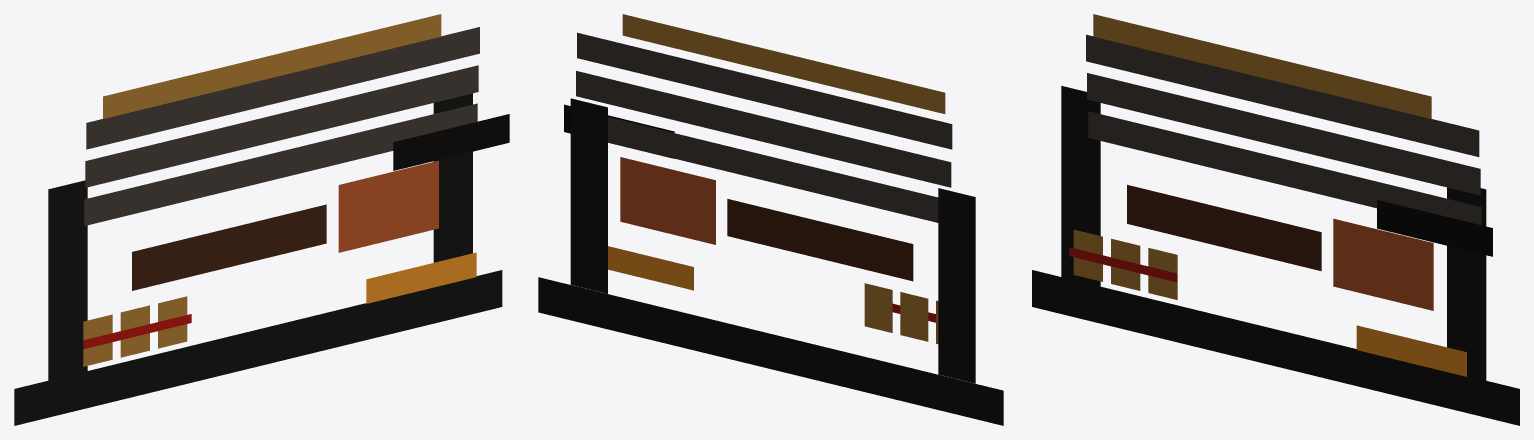
Rendered from V134WPP_002_SteamScattergunDisplayPolish_Staged.obj.
3 renders of one model, left to right at view 1: azimuth 30°, elevation 25°; view 2: azimuth 150°, elevation 25°; view 3: azimuth 330°, elevation 25°, orthographic. The views are drawn at different scales.
Parts seen in each view (by area): view 1: scattergun_broad_barrel_mass_read, scattergun_blackened_display_base, scattergun_blackened_display_yoke, scattergun_brass_top_rib, scattergun_walnut_pump_grip_read, scattergun_slug_canister_side_read, scattergun_soot_heat_wear_patches, scattergun_shell_rack_pickup_language, scattergun_amber_nameplate_display, scattergun_shell_rack_pressure_marks; view 2: scattergun_broad_barrel_mass_read, scattergun_blackened_display_base, scattergun_blackened_display_yoke, scattergun_brass_top_rib, scattergun_walnut_pump_grip_read, scattergun_slug_canister_side_read, scattergun_shell_rack_pickup_language, scattergun_amber_nameplate_display; view 3: scattergun_broad_barrel_mass_read, scattergun_blackened_display_base, scattergun_blackened_display_yoke, scattergun_brass_top_rib, scattergun_walnut_pump_grip_read, scattergun_slug_canister_side_read, scattergun_soot_heat_wear_patches, scattergun_shell_rack_pickup_language, scattergun_amber_nameplate_display, scattergun_shell_rack_pressure_marks.
Part boxes in pixels (bbox=[...]): scattergun_broad_barrel_mass_read: bbox=[84, 27, 479, 225]; scattergun_blackened_display_base: bbox=[14, 270, 502, 425]; scattergun_blackened_display_yoke: bbox=[48, 93, 472, 384]; scattergun_brass_top_rib: bbox=[103, 14, 441, 118]; scattergun_walnut_pump_grip_read: bbox=[132, 204, 326, 290]; scattergun_slug_canister_side_read: bbox=[338, 160, 438, 252]; scattergun_soot_heat_wear_patches: bbox=[393, 114, 509, 170]; scattergun_shell_rack_pickup_language: bbox=[83, 296, 187, 366]; scattergun_amber_nameplate_display: bbox=[366, 252, 476, 303]; scattergun_shell_rack_pressure_marks: bbox=[83, 314, 191, 349]; scattergun_broad_barrel_mass_read: bbox=[576, 32, 952, 222]; scattergun_blackened_display_base: bbox=[538, 277, 1003, 425]; scattergun_blackened_display_yoke: bbox=[570, 98, 975, 383]; scattergun_brass_top_rib: bbox=[622, 14, 945, 113]; scattergun_walnut_pump_grip_read: bbox=[727, 199, 913, 281]; scattergun_slug_canister_side_read: bbox=[620, 157, 715, 244]; scattergun_shell_rack_pickup_language: bbox=[864, 283, 938, 343]; scattergun_amber_nameplate_display: bbox=[608, 246, 693, 290]; scattergun_broad_barrel_mass_read: bbox=[1086, 34, 1481, 225]; scattergun_blackened_display_base: bbox=[1032, 270, 1519, 425]; scattergun_blackened_display_yoke: bbox=[1061, 86, 1486, 384]; scattergun_brass_top_rib: bbox=[1093, 14, 1431, 118]; scattergun_walnut_pump_grip_read: bbox=[1127, 185, 1321, 271]; scattergun_slug_canister_side_read: bbox=[1333, 218, 1433, 310]; scattergun_soot_heat_wear_patches: bbox=[1377, 200, 1492, 256]; scattergun_shell_rack_pickup_language: bbox=[1073, 229, 1177, 299]; scattergun_amber_nameplate_display: bbox=[1356, 325, 1466, 376]; scattergun_shell_rack_pressure_marks: bbox=[1069, 247, 1177, 282].
Bounding box in the file's own units: 1.24 × 0.78 × 0.075.
